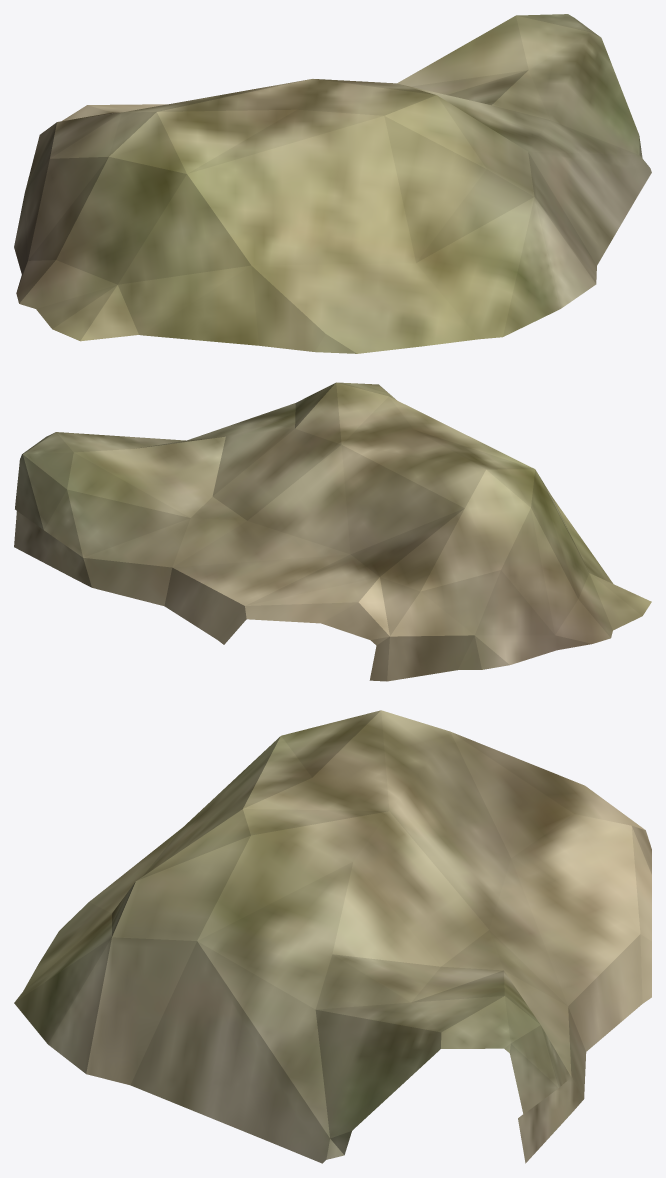
3 renders of one model, top to bottom at view 1: azimuth 30°, elevation 25°; view 2: azimuth 150°, elevation 25°; view 3: azimuth 270°, elevation 25°, orthographic. The views are drawn at different scales.
Size of the model in its own units: 0.9892 by 0.2473 by 0.763.
Materials: 1 (1 with a texture image).
